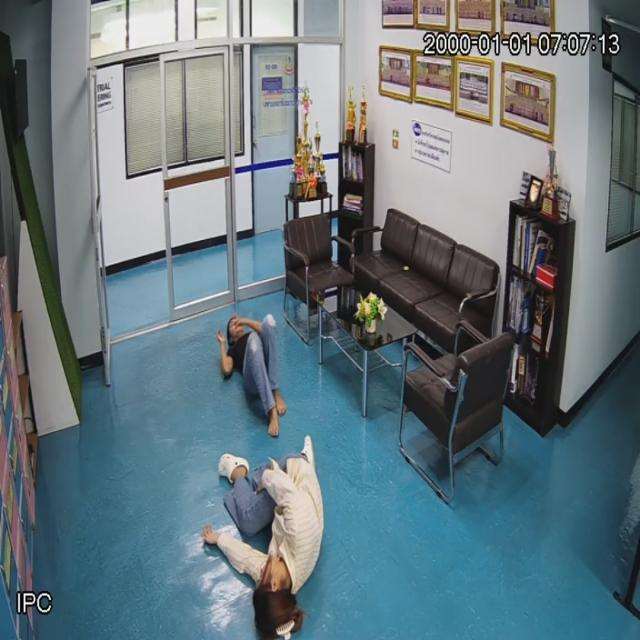fall: (204, 430, 333, 640), (212, 304, 292, 425)
